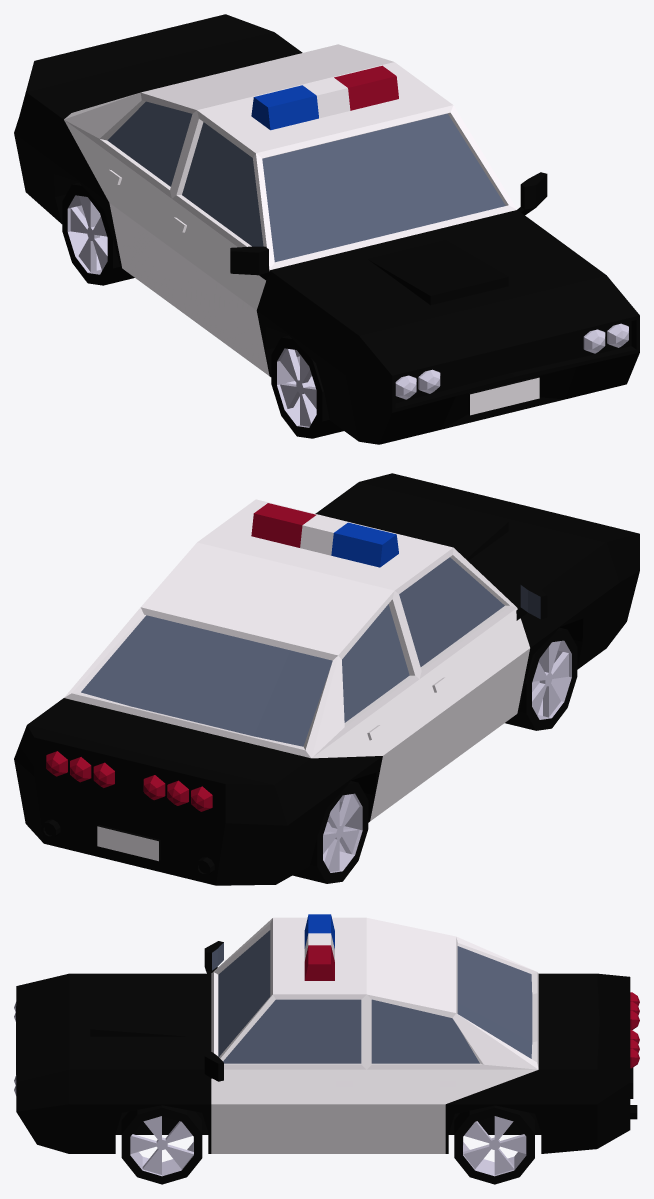
File: Police_Muscle.glb
The picture shows the model from 3 angles, top to bottom: view 1: azimuth 30°, elevation 25°; view 2: azimuth 150°, elevation 25°; view 3: azimuth 270°, elevation 25°; orthographic projection. The views are drawn at different scales.
Visible parts, largest first — view 1: Police Muscle_body black_0, Police Muscle_body white_0, Police Muscle_windows_0, Police Muscle wheel rear right_wheels_0, Police Muscle wheel front right_wheels_0, Police Muscle_flashers siren blue_0, Police Muscle wheel front right_tires_0, Police Muscle wheel rear right_tires_0, Police Muscle_flashers siren red_0, Police Muscle_headlights_0; view 2: Police Muscle_body black_0, Police Muscle_body white_0, Police Muscle_windows_0, Police Muscle_rear lights_0, Police Muscle wheel front right_wheels_0, Police Muscle wheel rear right_wheels_0, Police Muscle_flashers siren blue_0, Police Muscle wheel front right_tires_0, Police Muscle wheel rear right_tires_0, Police Muscle_flashers siren red_0; view 3: Police Muscle_body black_0, Police Muscle_body white_0, Police Muscle_windows_0, Police Muscle wheel front left_tires_0, Police Muscle wheel rear left_tires_0, Police Muscle wheel rear left_wheels_0, Police Muscle wheel front left_wheels_0, Police Muscle_flashers siren red_0, Police Muscle_rear lights_0, Police Muscle_flashers siren blue_0.
Part boxes in pixels (bbox=[...]): Police Muscle_body black_0: bbox=[14, 14, 639, 444]; Police Muscle_body white_0: bbox=[64, 44, 539, 415]; Police Muscle_windows_0: bbox=[107, 101, 505, 262]; Police Muscle wheel rear right_wheels_0: bbox=[67, 195, 107, 274]; Police Muscle wheel front right_wheels_0: bbox=[277, 348, 316, 427]; Police Muscle_flashers siren blue_0: bbox=[251, 85, 318, 130]; Police Muscle wheel front right_tires_0: bbox=[271, 335, 343, 438]; Police Muscle wheel rear right_tires_0: bbox=[62, 182, 134, 285]; Police Muscle_flashers siren red_0: bbox=[334, 65, 398, 110]; Police Muscle_headlights_0: bbox=[395, 323, 628, 399]; Police Muscle_body black_0: bbox=[14, 473, 639, 885]; Police Muscle_body white_0: bbox=[64, 499, 530, 861]; Police Muscle_windows_0: bbox=[81, 557, 540, 746]; Police Muscle_rear lights_0: bbox=[46, 751, 212, 811]; Police Muscle wheel front right_wheels_0: bbox=[532, 640, 571, 719]; Police Muscle wheel rear right_wheels_0: bbox=[323, 793, 362, 872]; Police Muscle_flashers siren blue_0: bbox=[331, 522, 398, 567]; Police Muscle wheel front right_tires_0: bbox=[505, 628, 577, 730]; Police Muscle wheel rear right_tires_0: bbox=[293, 781, 368, 883]; Police Muscle_flashers siren red_0: bbox=[251, 503, 316, 547]; Police Muscle_body black_0: bbox=[16, 941, 637, 1153]; Police Muscle_body white_0: bbox=[211, 917, 538, 1153]; Police Muscle_windows_0: bbox=[212, 930, 532, 1063]; Police Muscle wheel front left_tires_0: bbox=[121, 1105, 202, 1184]; Police Muscle wheel rear left_tires_0: bbox=[454, 1105, 534, 1184]; Police Muscle wheel rear left_wheels_0: bbox=[463, 1116, 526, 1176]; Police Muscle wheel front left_wheels_0: bbox=[130, 1116, 193, 1176]; Police Muscle_flashers siren red_0: bbox=[304, 945, 334, 980]; Police Muscle_rear lights_0: bbox=[630, 992, 639, 1068]; Police Muscle_flashers siren blue_0: bbox=[304, 914, 334, 948].
Bounding box in the file's own units: 2.81 × 2.09 × 6.06.
